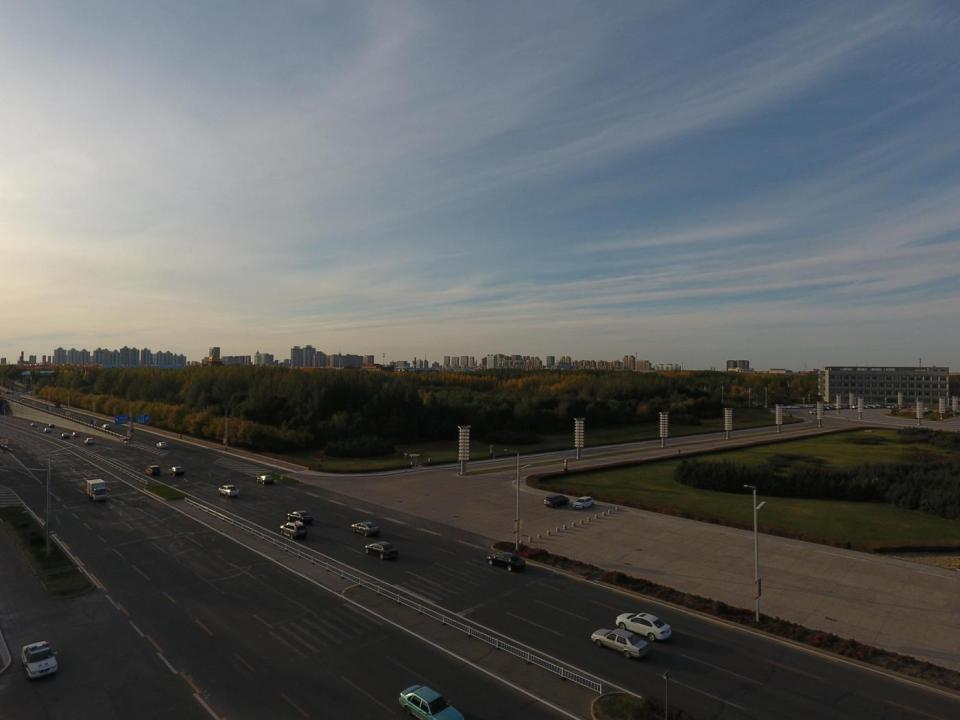car: (397, 683, 465, 720), (590, 627, 650, 659), (614, 612, 673, 640), (20, 639, 60, 680), (486, 551, 527, 572), (364, 540, 399, 559), (279, 520, 308, 539), (350, 520, 380, 536), (287, 510, 314, 524), (572, 496, 594, 509), (256, 474, 275, 485), (168, 466, 186, 476), (155, 440, 168, 449), (100, 422, 111, 432), (84, 436, 94, 445), (59, 432, 70, 439), (71, 430, 80, 437), (42, 427, 52, 433), (785, 412, 794, 418), (30, 421, 38, 427), (48, 422, 55, 428)
truck: (86, 478, 108, 501), (218, 485, 239, 497)
van: (544, 494, 570, 508), (145, 464, 161, 477)
